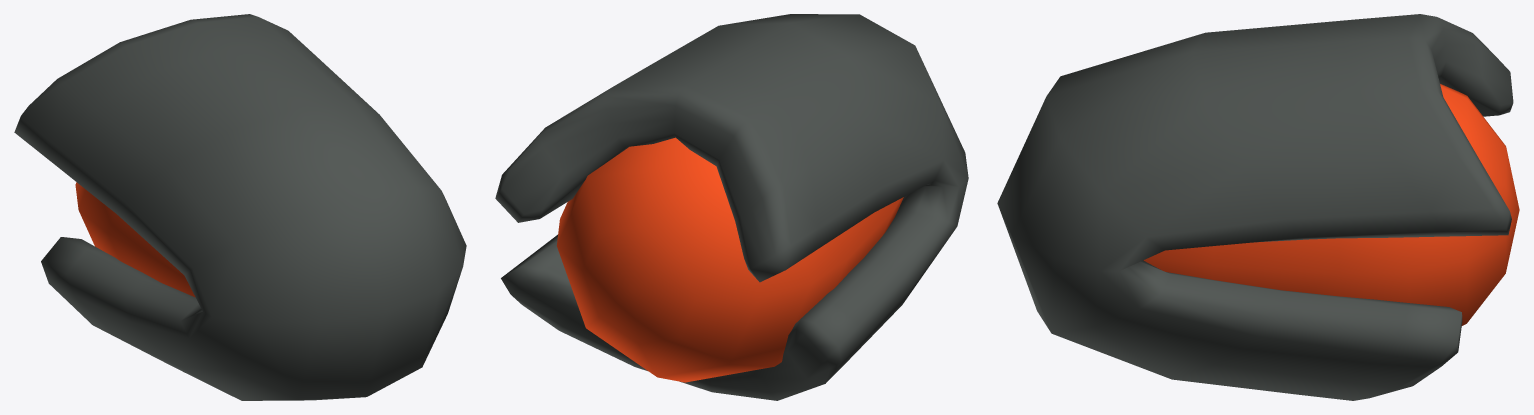
The model's file is xsens_RightThirdDP.dae.
3 views of the same model, side by side, from view 1: azimuth 30°, elevation 25°; view 2: azimuth 150°, elevation 25°; view 3: azimuth 270°, elevation 25° (orthographic). The views are drawn at different scales.
Parts seen in each view (by area): view 1: RightThirdDP; view 2: RightThirdDP; view 3: RightThirdDP.
Part boxes in pixels (left/top/right/bottom): RightThirdDP: left=14, top=14, right=466, bottom=400; RightThirdDP: left=495, top=14, right=968, bottom=400; RightThirdDP: left=997, top=14, right=1519, bottom=400.
Size of the model in its own units: 0.0157 by 0.0213 by 0.0153.
